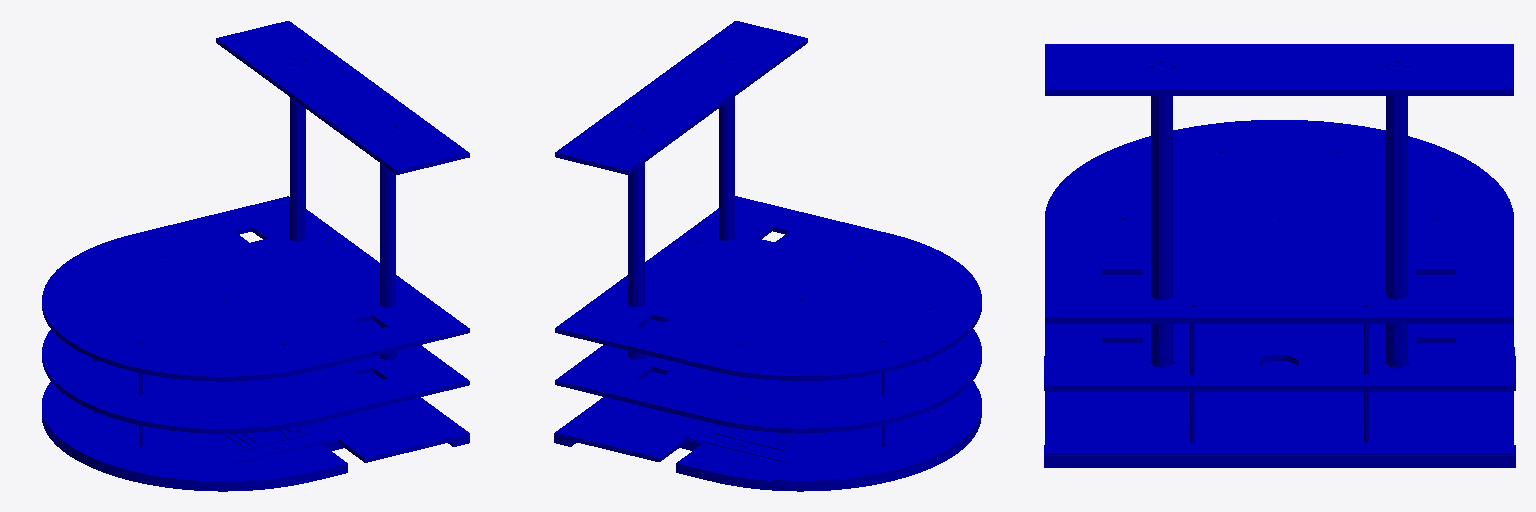
robot.urdf — pepper:
<?xml version="1.0"?>

<robot name="pepper">

  <material name="blue">
    <color rgba="0 0 0.8 1"/>
  </material>
  
  <material name="black">
    <color rgba="0 0 0 1"/>
  </material>
  
  <material name="white">
    <color rgba="1 1 1 1"/>
  </material>

  <link name="base_footprint"/>

  <joint name="base_joint" type="fixed">
    <parent link="base_footprint"/>
    <child link="base_link" />
    <origin xyz="0 0 0" rpy="0 0 0"/>
  </joint>

  <link name="base_link">
    <visual>
      <origin rpy="1.5707963 0 1.5707963" xyz="-0.19 0 0"/>
      <geometry>
        <mesh filename="package://pepper/meshes/peppercad_binary1.stl"  scale="0.01 0.01 0.01"/>
      </geometry>
      <material name="blue"/>
    </visual>
  </link> 
  
  <link name="camera_depth_frame">
    <visual>
      <origin rpy="0 0 0" xyz="-0.0457 0 0.355"/>
      <geometry>
        <mesh filename="package://pepper/meshes/kinect.dae"  scale="0.001 0.001 0.001"/>
      </geometry>
      <material name="blue"/>
    </visual>
  </link>
    <joint name="kinect_link" type="fixed">
    <parent link="base_link"/>
    <child link="camera_depth_frame"/>
    <origin rpy="0 0 0" xyz="-0.047 0 0.355"/>
    </joint> -->

  <link name="camera_rgb_optical_frame"/>
   <joint name="optical_link" type="fixed">
    <parent link="base_link"/>
    <child link="camera_rgb_optical_frame"/>
    <origin rpy="0 0 0" xyz="-0.047 0 0.355"/>
    </joint> -->


  
</robot>

--- Facts derived from the render (not from the file) ---
3 views of the same robot in one strip: view 1: azimuth 30°, elevation 25°; view 2: azimuth 150°, elevation 25°; view 3: azimuth 270°, elevation 25° (orthographic).
Robot: pepper — 4 links, 3 joints (3 fixed); root link base_footprint; default pose: every joint at zero.
Visible links, largest first — view 1: base_link; view 2: base_link; view 3: base_link.
Link boxes in pixels (box(x1,y1,x2,y2)): base_link: box(42, 21, 469, 491); base_link: box(554, 21, 981, 491); base_link: box(1044, 44, 1515, 467).
Bounding box of the posed robot: 0.3433 × 0.3433 × 0.3036 m (x, y, z).
Meshes: 2 distinct files referenced, 1 mesh visuals loaded (1 binary STL); not drawn: 1 (reference not matched to a file when rendering).